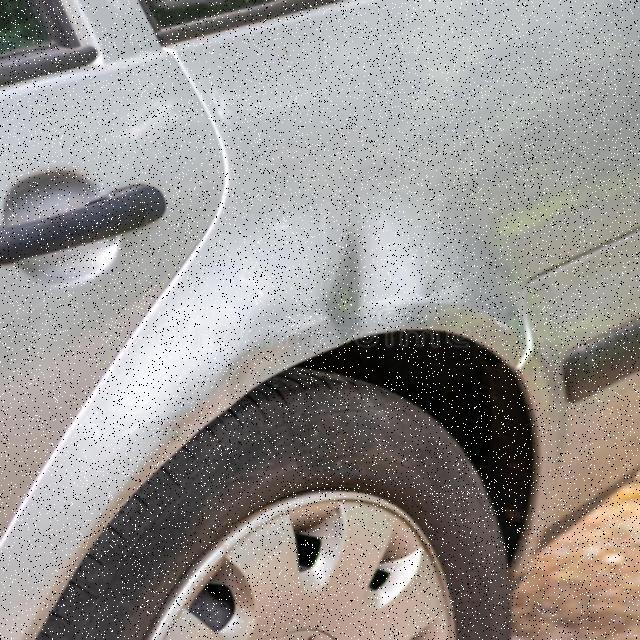quaterpanel-dent: (150, 7, 628, 488)
